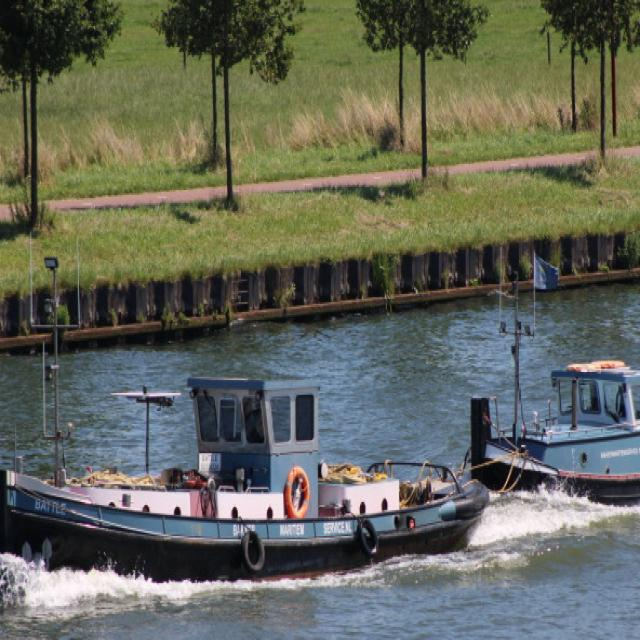tugboat: (1, 233, 492, 597), (468, 316, 640, 532)
